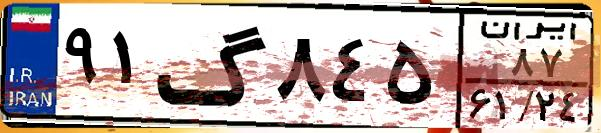1: (110, 28, 156, 98), (495, 70, 520, 125)
2: (535, 70, 560, 125)
4: (330, 28, 385, 110), (560, 70, 590, 125)
5: (385, 28, 445, 110)
6: (470, 70, 495, 125)
7: (537, 27, 568, 80)
8: (270, 28, 330, 110), (508, 27, 537, 80)
9: (57, 26, 110, 100)
گ: (156, 12, 270, 120)
